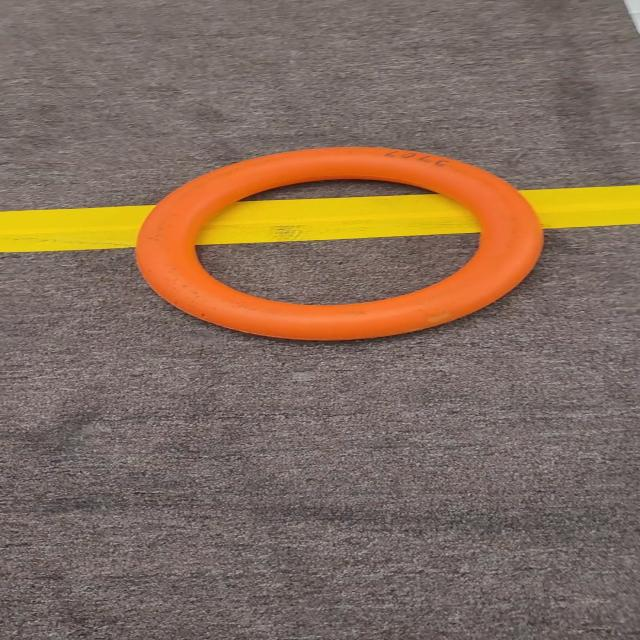note: (114, 136, 578, 358)
